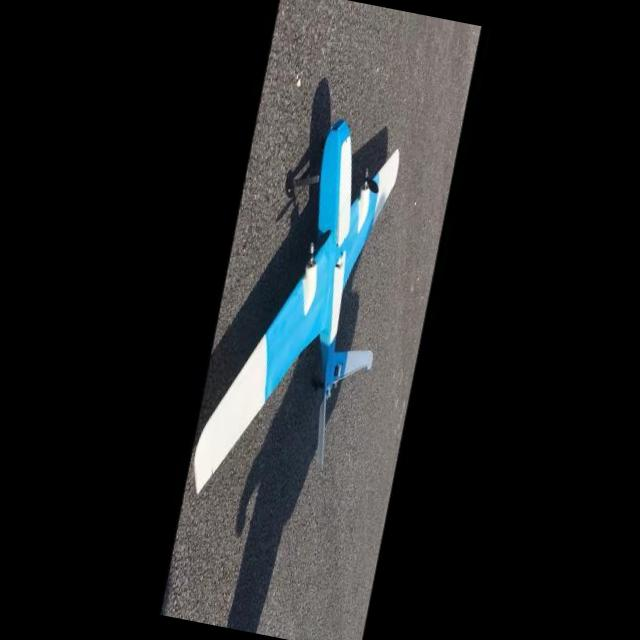UAV: (202, 88, 424, 514)
